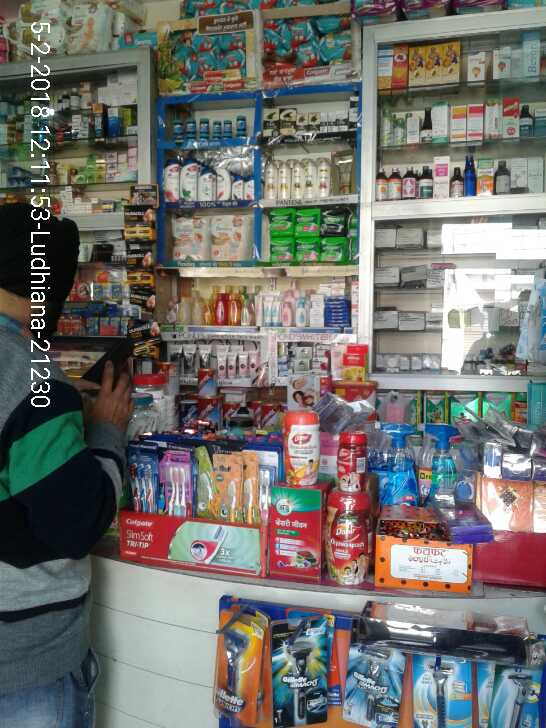vicks: (170, 112, 251, 147)
